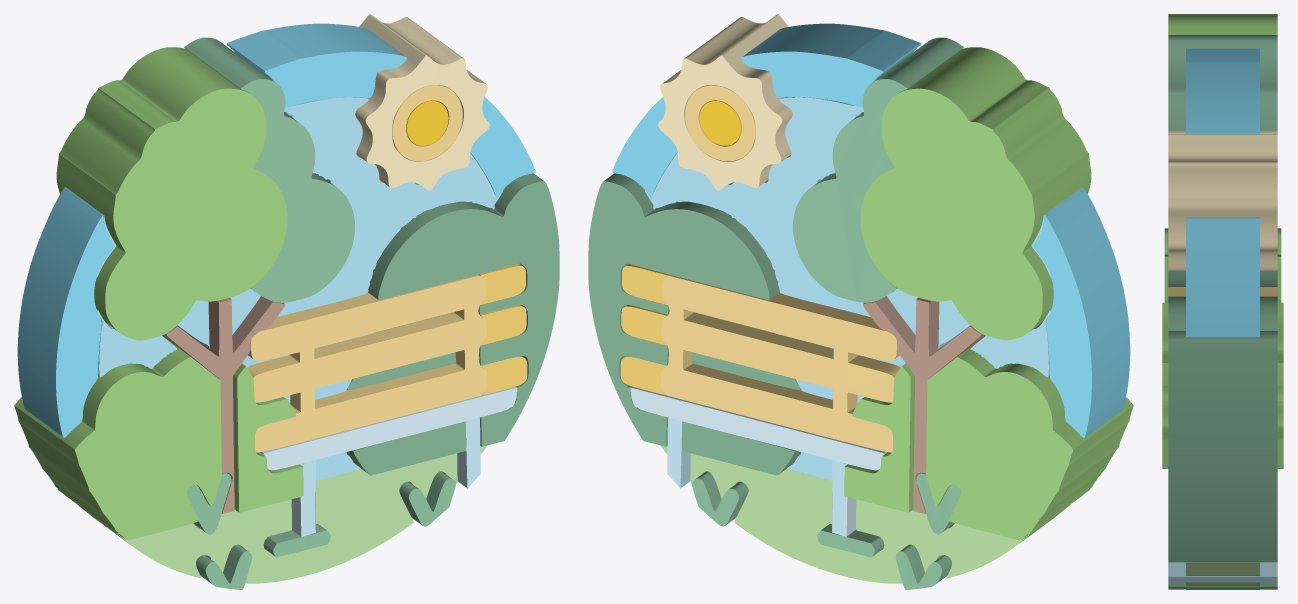
Rendered from park.glb.
3 views of the same model, side by side, from view 1: azimuth 30°, elevation 25°; view 2: azimuth 150°, elevation 25°; view 3: azimuth 270°, elevation 25° (orthographic). The views are drawn at different scales.
Parts seen in each view (by area): view 1: imagetostl_mesh0, imagetostl_mesh19, imagetostl_mesh1, imagetostl_mesh21, imagetostl_mesh32, imagetostl_mesh25, imagetostl_mesh27, imagetostl_mesh3, imagetostl_mesh35, imagetostl_mesh33, imagetostl_mesh40, imagetostl_mesh41 (+19 smaller); view 2: imagetostl_mesh0, imagetostl_mesh19, imagetostl_mesh1, imagetostl_mesh21, imagetostl_mesh32, imagetostl_mesh25, imagetostl_mesh27, imagetostl_mesh3, imagetostl_mesh35, imagetostl_mesh33, imagetostl_mesh40, imagetostl_mesh41 (+19 smaller); view 3: imagetostl_mesh21, imagetostl_mesh35, imagetostl_mesh34, imagetostl_mesh33, imagetostl_mesh27, imagetostl_mesh2, imagetostl_mesh0, imagetostl_mesh46, imagetostl_mesh26, imagetostl_mesh1, imagetostl_mesh29, imagetostl_mesh25 (+1 smaller).
Part boxes in pixels (x1=…): imagetostl_mesh0: x1=56, y1=47, x2=287, y2=340; imagetostl_mesh19: x1=247, y1=274, x2=487, y2=452; imagetostl_mesh1: x1=14, y1=338, x2=221, y2=540; imagetostl_mesh21: x1=368, y1=173, x2=559, y2=446; imagetostl_mesh32: x1=17, y1=187, x2=115, y2=437; imagetostl_mesh25: x1=78, y1=453, x2=457, y2=583; imagetostl_mesh27: x1=184, y1=37, x2=354, y2=302; imagetostl_mesh3: x1=277, y1=97, x2=502, y2=316; imagetostl_mesh35: x1=355, y1=14, x2=489, y2=190; imagetostl_mesh33: x1=226, y1=23, x2=406, y2=108; imagetostl_mesh40: x1=260, y1=386, x2=517, y2=536; imagetostl_mesh41: x1=162, y1=296, x2=284, y2=513; imagetostl_mesh0: x1=860, y1=47, x2=1091, y2=340; imagetostl_mesh19: x1=660, y1=274, x2=900, y2=452; imagetostl_mesh1: x1=926, y1=338, x2=1133, y2=540; imagetostl_mesh21: x1=588, y1=173, x2=779, y2=446; imagetostl_mesh32: x1=1032, y1=187, x2=1130, y2=437; imagetostl_mesh25: x1=690, y1=453, x2=1069, y2=583; imagetostl_mesh27: x1=793, y1=37, x2=963, y2=302; imagetostl_mesh3: x1=645, y1=97, x2=870, y2=316; imagetostl_mesh35: x1=658, y1=14, x2=792, y2=190; imagetostl_mesh33: x1=741, y1=23, x2=921, y2=107; imagetostl_mesh40: x1=630, y1=386, x2=887, y2=536; imagetostl_mesh41: x1=863, y1=296, x2=985, y2=513; imagetostl_mesh21: x1=1168, y1=296, x2=1277, y2=562; imagetostl_mesh35: x1=1168, y1=131, x2=1277, y2=270; imagetostl_mesh34: x1=1186, y1=217, x2=1259, y2=337; imagetostl_mesh33: x1=1186, y1=48, x2=1259, y2=134; imagetostl_mesh27: x1=1168, y1=35, x2=1277, y2=286; imagetostl_mesh2: x1=1162, y1=302, x2=1283, y2=468; imagetostl_mesh0: x1=1168, y1=14, x2=1277, y2=34; imagetostl_mesh46: x1=1168, y1=562, x2=1277, y2=581; imagetostl_mesh26: x1=1186, y1=562, x2=1259, y2=575; imagetostl_mesh1: x1=1164, y1=228, x2=1281, y2=302; imagetostl_mesh29: x1=1168, y1=582, x2=1277, y2=589; imagetostl_mesh25: x1=1186, y1=582, x2=1259, y2=589.
Bounding box in the file's own units: 99.6 × 99.77 × 21.86.
